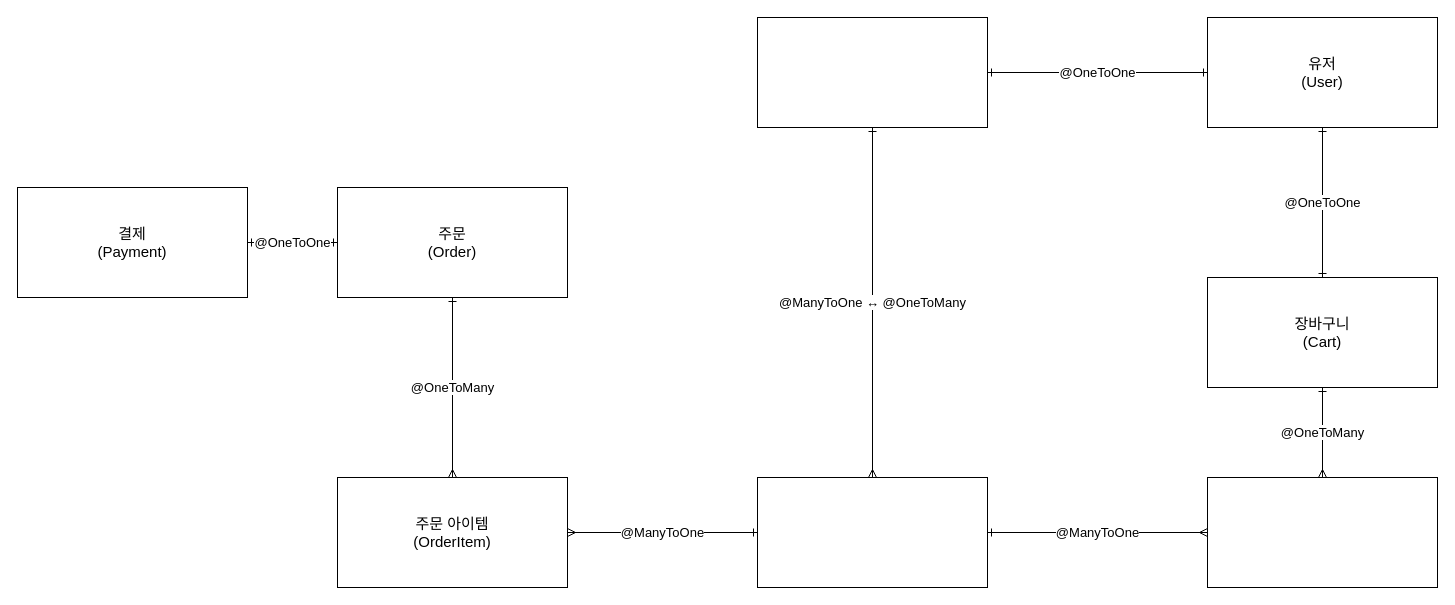
The diagram is 1455 pixels wide and 605 high, and some of its shapes have lost their labels. The shapes that lost their labels are listed below. From the top down, each one's centre as x and y in pixels, then its label:
point (872, 72): 셀러 (Seller)
point (872, 532): 상품 (Product)
point (1322, 532): 카트 아이템 (CartItem)
